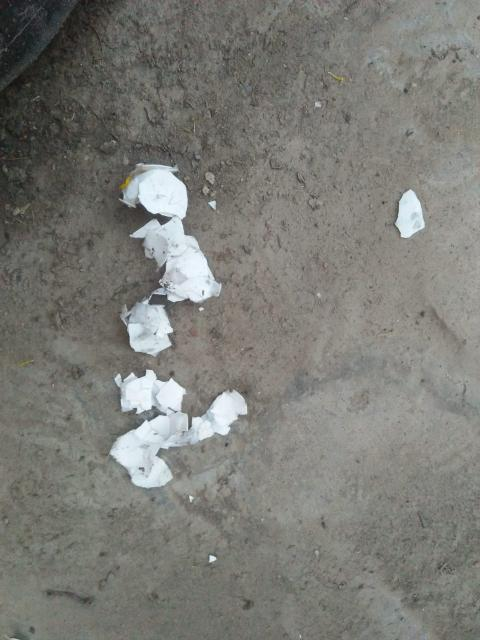Roto: (130, 216, 222, 304), (107, 411, 210, 488), (158, 245, 222, 304), (119, 163, 187, 217), (113, 368, 186, 414), (119, 298, 174, 357), (204, 388, 248, 435), (394, 188, 425, 238), (154, 376, 186, 412)
